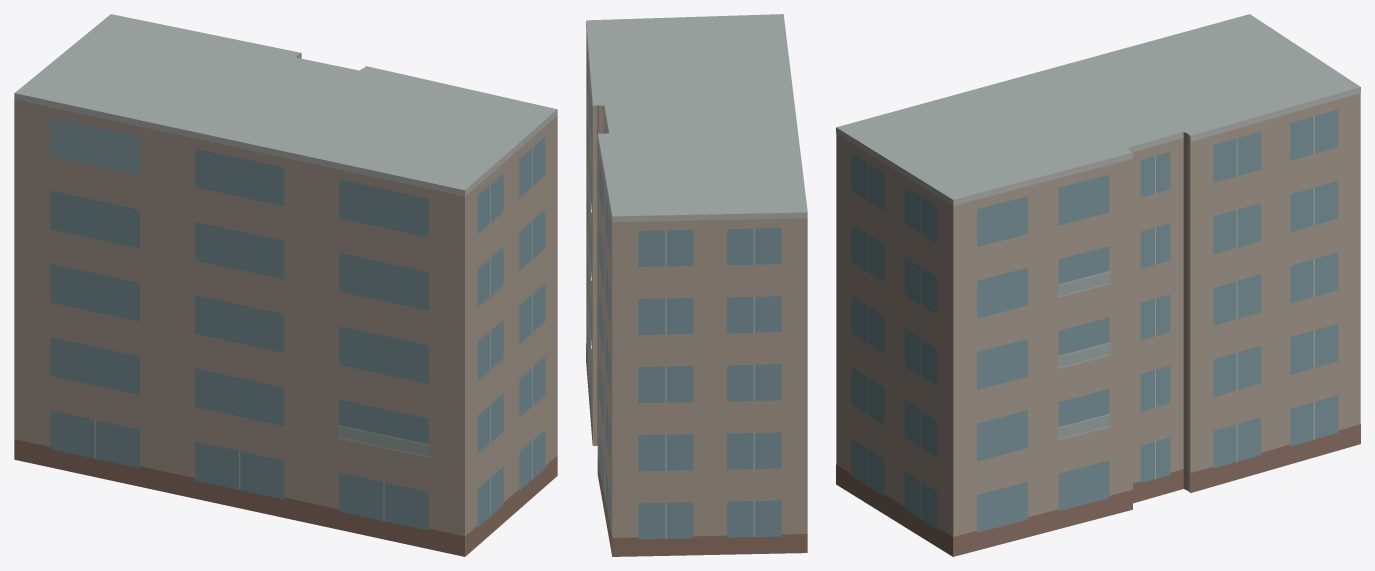
Rendered from survey-upis-32881726.glb.
3 renders of one model, left to right at view 1: azimuth 30°, elevation 25°; view 2: azimuth 150°, elevation 25°; view 3: azimuth 270°, elevation 25°, orthographic. The views are drawn at different scales.
Visible parts, largest first — view 1: survey-upis-32881726.tmp; view 2: survey-upis-32881726.tmp; view 3: survey-upis-32881726.tmp.
Part boxes in pixels (bbox=[...]): survey-upis-32881726.tmp: bbox=[14, 14, 557, 556]; survey-upis-32881726.tmp: bbox=[586, 14, 807, 556]; survey-upis-32881726.tmp: bbox=[836, 14, 1360, 556].
Bounding box in the file's own units: 15.97 × 14.3 × 19.05.
